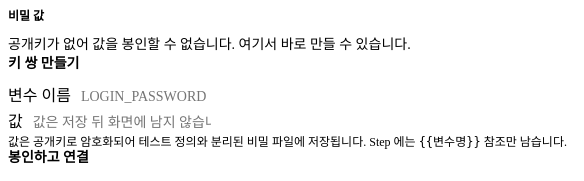
Test: InlineSecretInput — 공개키가 없을 때 (DR-025) › 그 자리에서 키를 만들 수 있다
Check: the text "공개키가 없어 값을 봉인할 수 없습니다. 여기서 바로 만들 수 있습니다." is shown, box [8,37,411,52]
Click the button "키 쌍 만들기": (44, 64) [8,56,79,72]
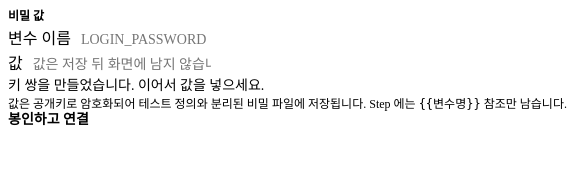
Check: the text "키 쌍을 만들었습니다. 이어서 값을 넣으세요." is shown, box [8,78,264,93]
